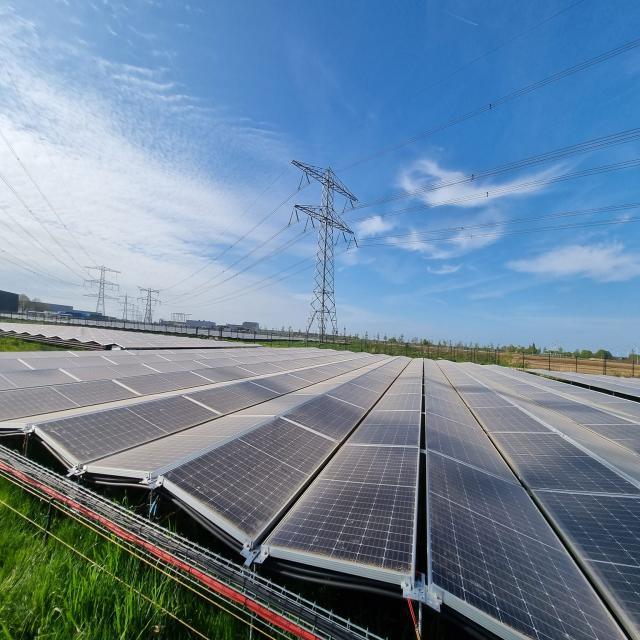dust-solar-panel: (0, 347, 640, 640)
